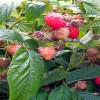Raspberry leaf: (9, 48, 44, 99)
